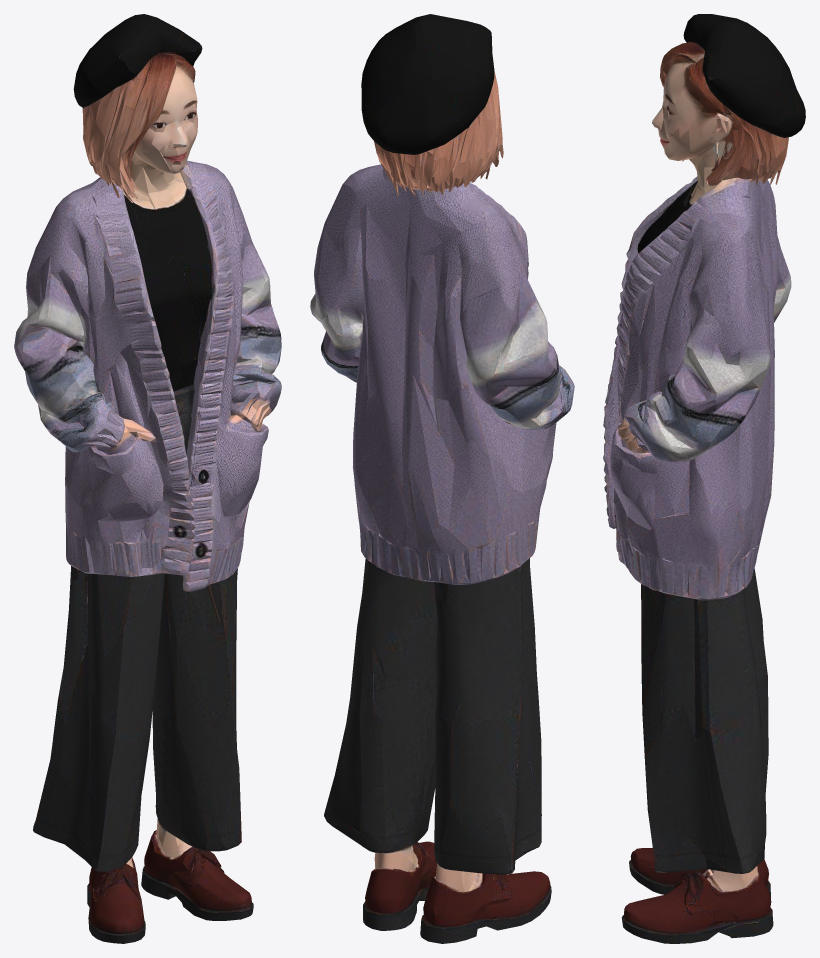
Rendered from sora.glb.
3 renders of one model, left to right at view 1: azimuth 30°, elevation 25°; view 2: azimuth 150°, elevation 25°; view 3: azimuth 270°, elevation 25°, orthographic. The views are drawn at different scales.
Bounding box in the file's own units: 0.5477 × 1.9 × 0.3921.
Materials: 1 (1 with a texture image).
